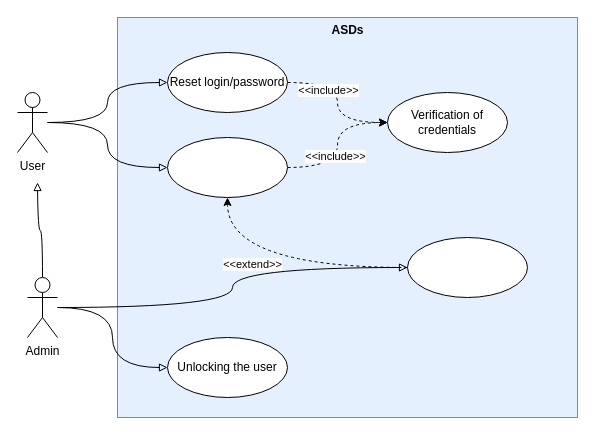
Image size: 595x435. Some labels were removed from this diagram. Each missing label, with the centre of its shape:
"Authorisation error" belongs at point (227, 167).
"User Lockout" belongs at point (467, 267).
